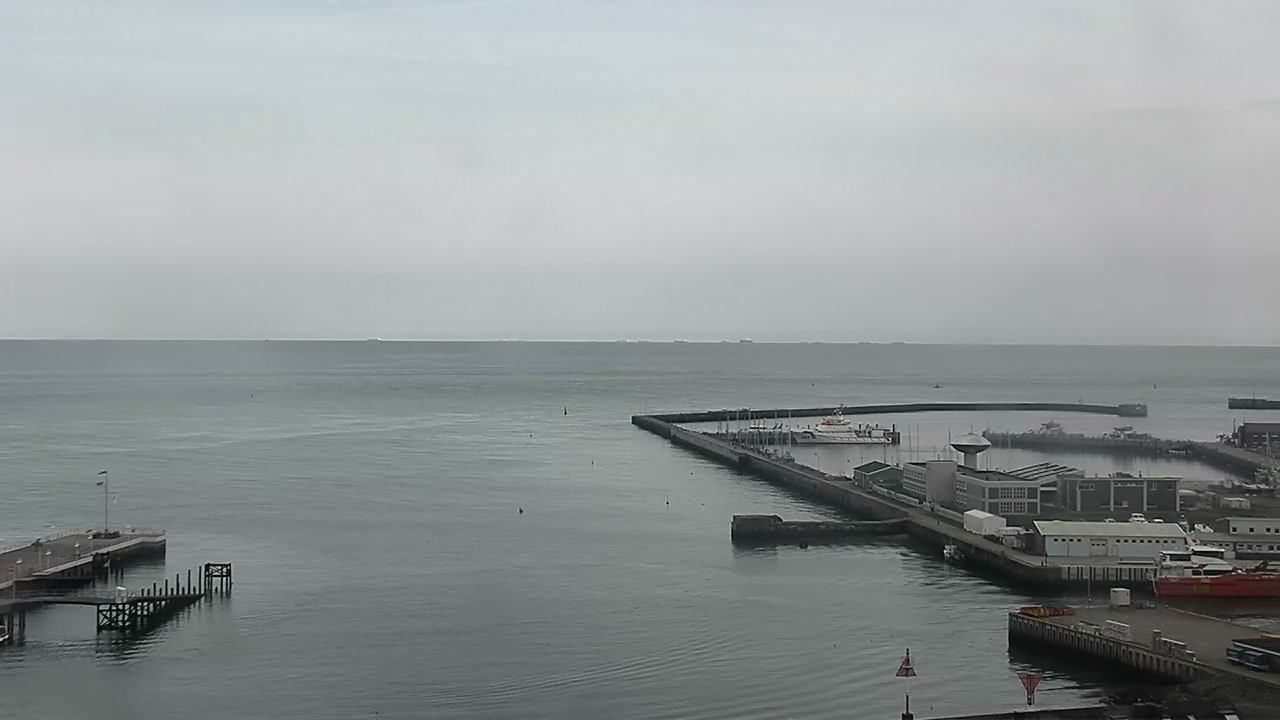human: (936, 519, 940, 526)
sea: (1146, 543, 1280, 596), (789, 408, 892, 444), (1019, 418, 1085, 439), (1102, 423, 1160, 439), (780, 409, 796, 462), (763, 409, 781, 455), (943, 542, 965, 560), (739, 336, 754, 342)
